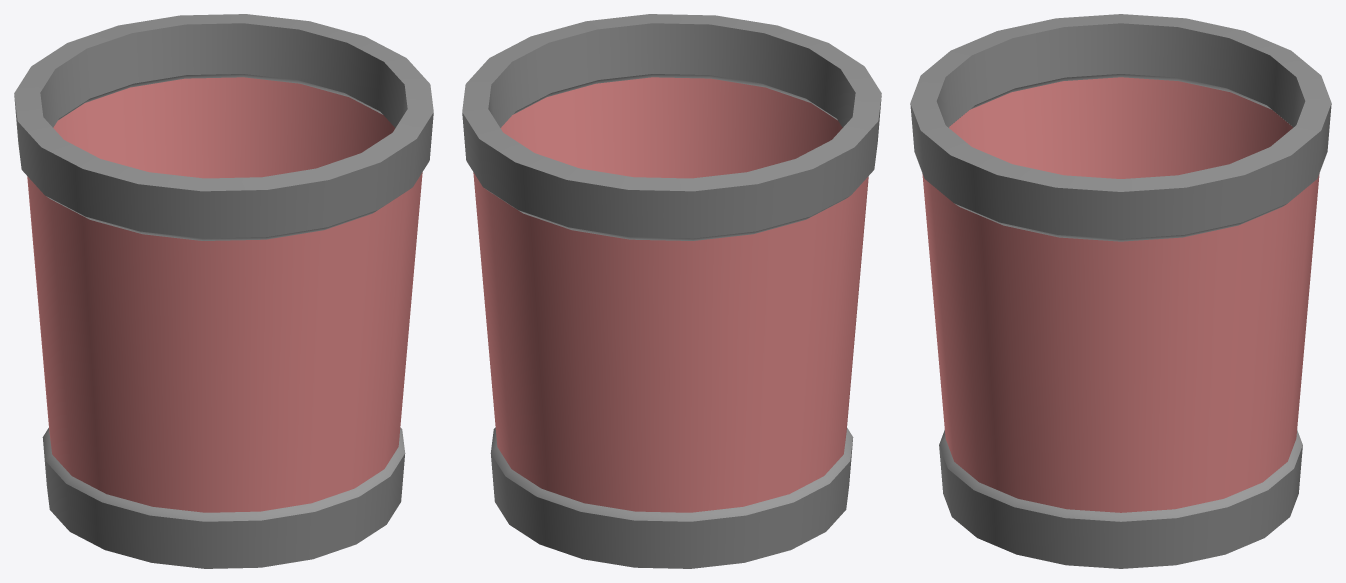
File: Trashcan.fbx
The picture shows the model from 3 angles, left to right: view 1: azimuth 30°, elevation 25°; view 2: azimuth 150°, elevation 25°; view 3: azimuth 270°, elevation 25°; orthographic projection.
Visible parts, largest first — view 1: SM_Trashcan; view 2: SM_Trashcan; view 3: SM_Trashcan.
Part boxes in pixels (x1=…): SM_Trashcan: x1=14, y1=14, x2=433, y2=568; SM_Trashcan: x1=462, y1=14, x2=881, y2=568; SM_Trashcan: x1=910, y1=14, x2=1331, y2=568.
Size of the model in its own units: 51.17 by 52.62 by 51.17.
